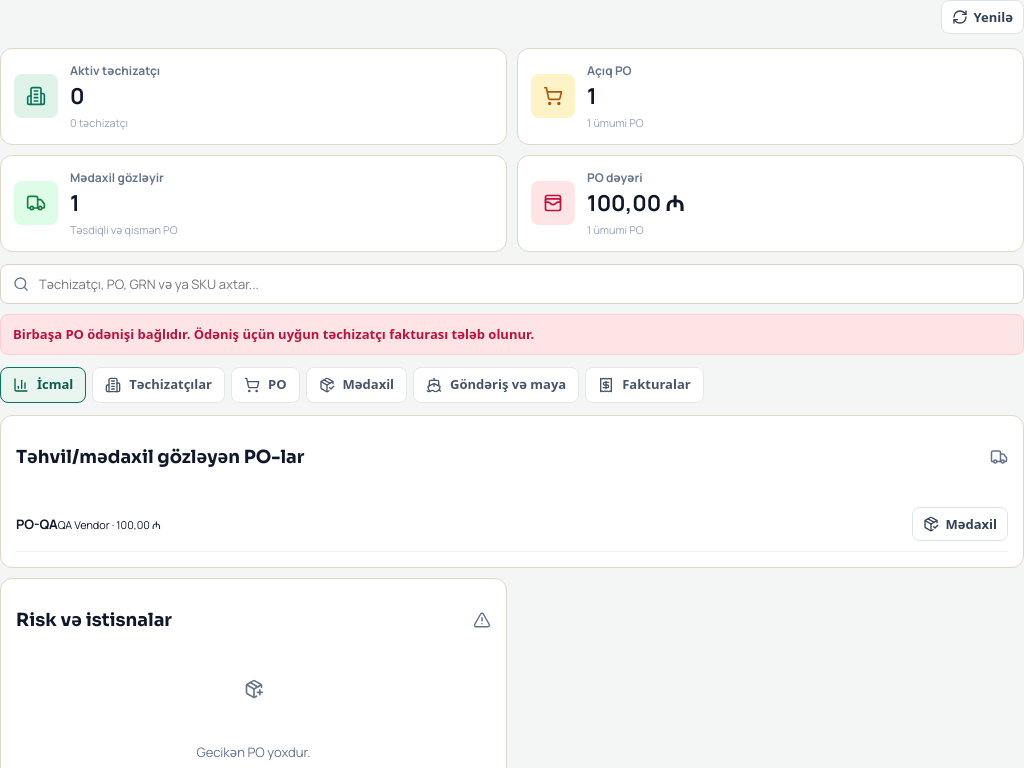
it: renders VAT-inclusive invoice totals and the tax rate in invoice details
Click the button "Fakturalar" at (644, 385), box [585,367,704,403]
(page scrolled)
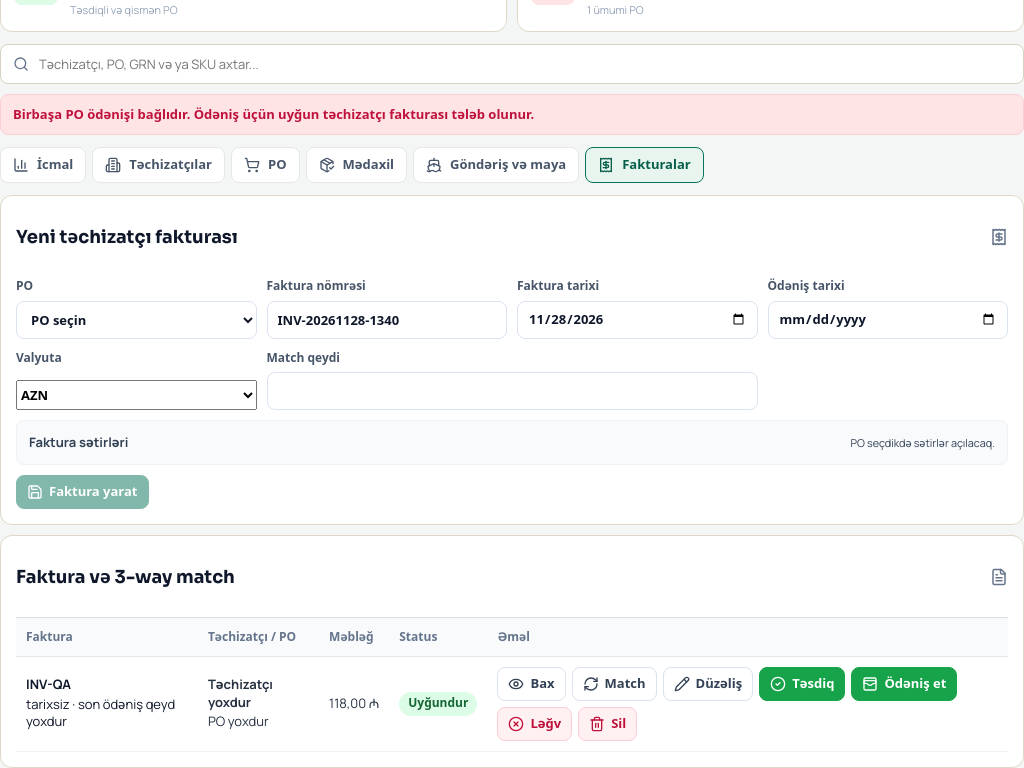
expect the cell "118,00 ₼" is shown: met, box [319,656,389,751]
Click the button "INV-QA tarixsiz · son ödəniş qeyd yoxdur" at (107, 704), box [26,676,188,731]
(page scrolled)
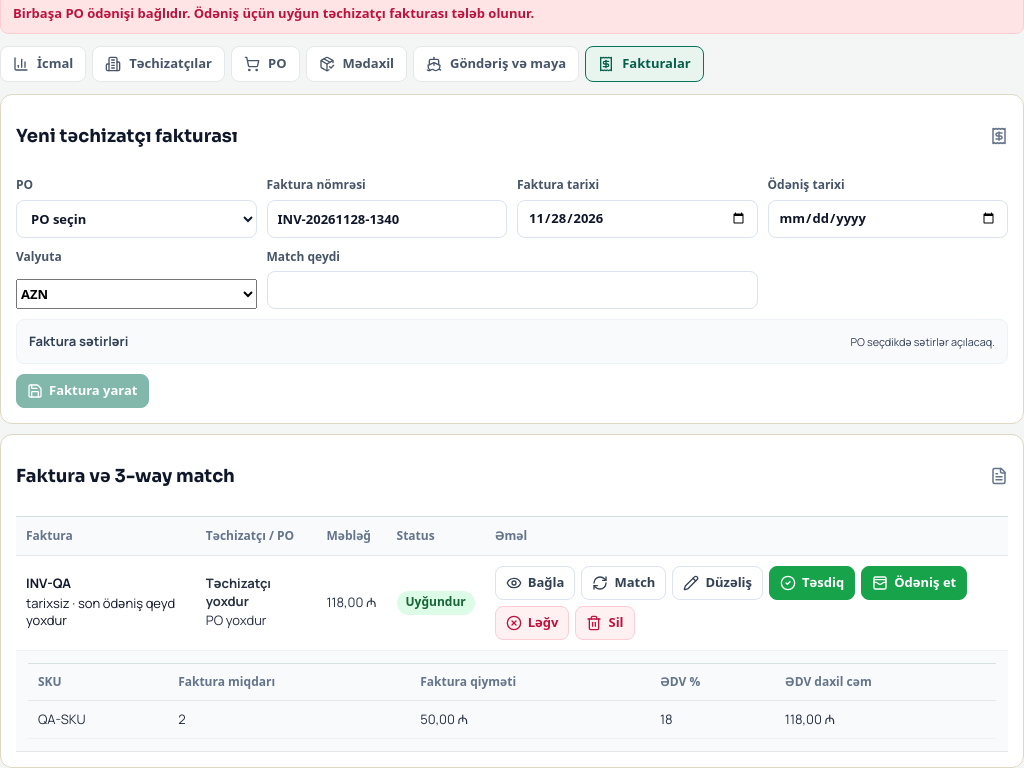
expect the column heading "ƏDV daxil cəm" is shown: met, box [775,663,996,700]
expect the cell "18" is shown: met, box [650,700,775,739]
